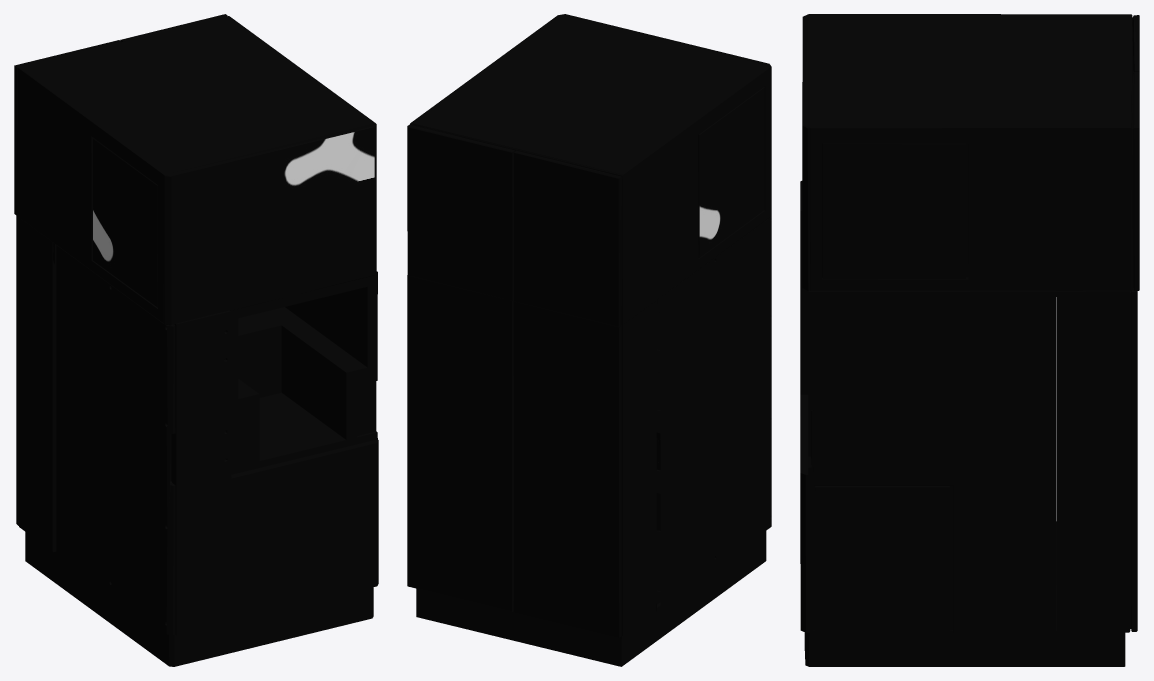
Rendered from drukarka5.glb.
3 views of the same model, side by side, from view 1: azimuth 30°, elevation 25°; view 2: azimuth 150°, elevation 25°; view 3: azimuth 270°, elevation 25° (orthographic). The views are drawn at different scales.
Visible parts, largest first — view 1: Drukarka dol, Drukarka gora; view 2: Drukarka dol, Drukarka gora; view 3: Drukarka dol, Drukarka gora.
Part boxes in pixels (x1=…): Drukarka dol: x1=16, y1=215, x2=378, y2=666; Drukarka gora: x1=14, y1=14, x2=376, y2=325; Drukarka dol: x1=407, y1=217, x2=771, y2=666; Drukarka gora: x1=407, y1=14, x2=771, y2=327; Drukarka dol: x1=800, y1=181, x2=1137, y2=666; Drukarka gora: x1=802, y1=14, x2=1139, y2=290.
Bounding box in the file's own units: 2.01 × 4.43 × 2.52.
Materials: 1 (1 with a texture image).
